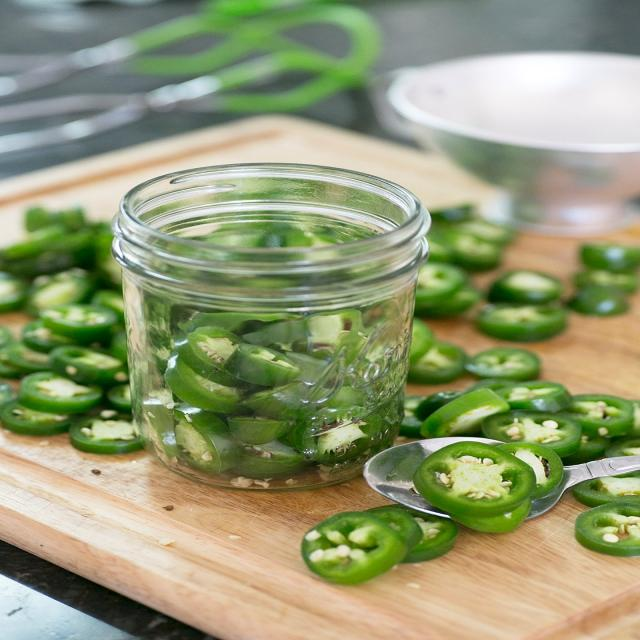aji: (26, 194, 640, 548)
